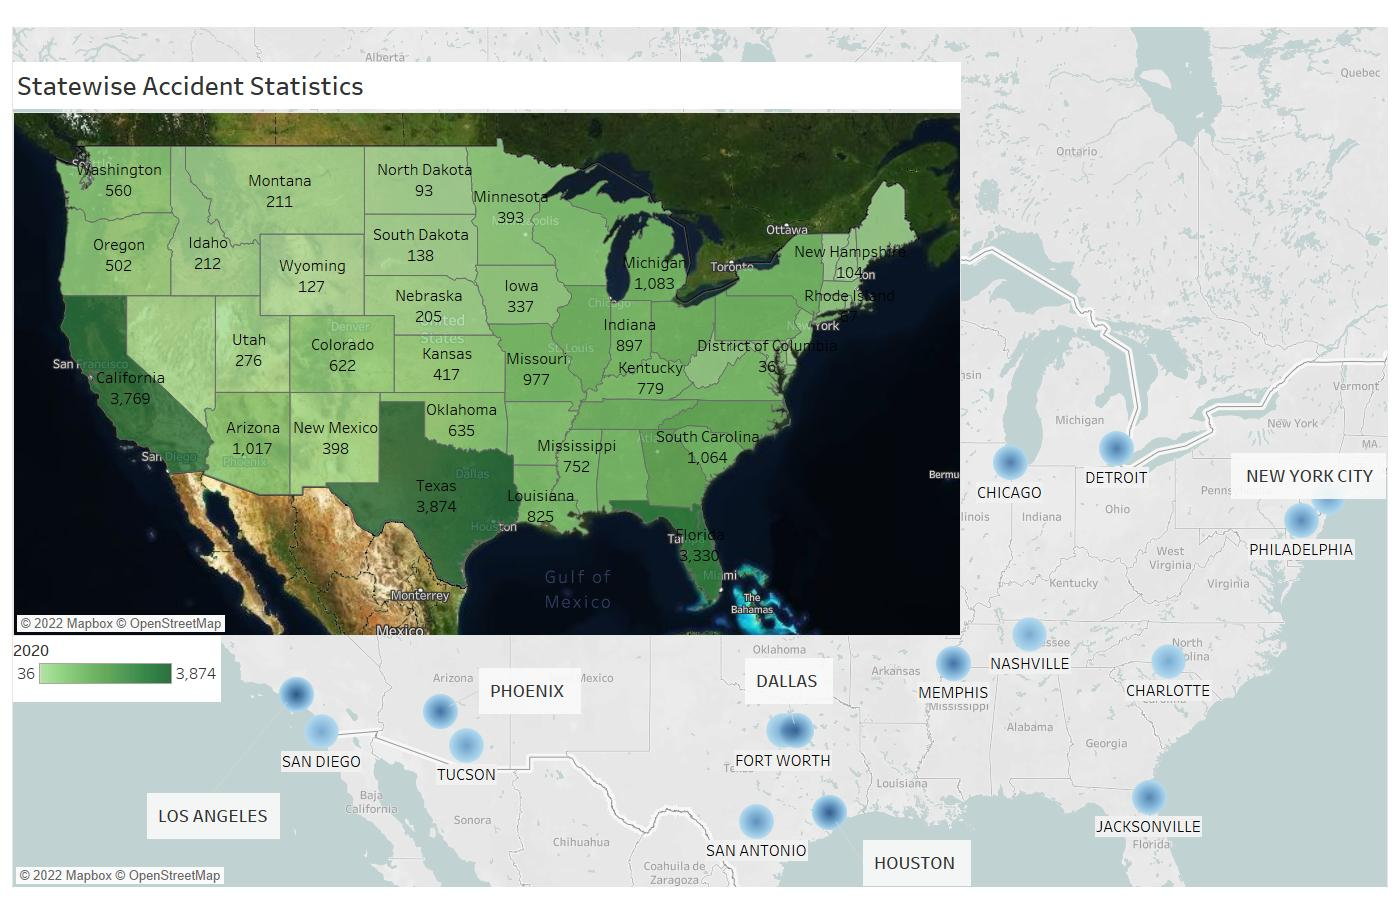

Layout of this report page (visuals, bound fields, positions):
{"tool":"tableau","page":{"name":"Dashboard 5","canvas":[1400,900],"ordinal":2},"visuals":[{"type":"worksheet","title":"Sheet 12","mark":"Heatmap","box":[8,8,1384,884]},{"type":"worksheet","title":"Sheet 11","mark":"Multipolygon","box":[13,27,948,574]},{"type":"legend","title":"Sheet 11","param":"[federated.0u33220150e2l51epe9a91ncw4q5].[sum:number_of_fatalities:qk]","box":[14,600,208,68]}]}

Visuals, with their boxes in screenshot pixels (x1, y1, x2, y2), scaled from the page's 1400x900 canvas onto the 1400x900 screenshot:
"Sheet 12" worksheet (Heatmap marks): select_region(8, 8, 1392, 892)
"Sheet 11" worksheet (Multipolygon marks): select_region(13, 27, 961, 601)
"Sheet 11" legend: select_region(14, 600, 222, 668)
